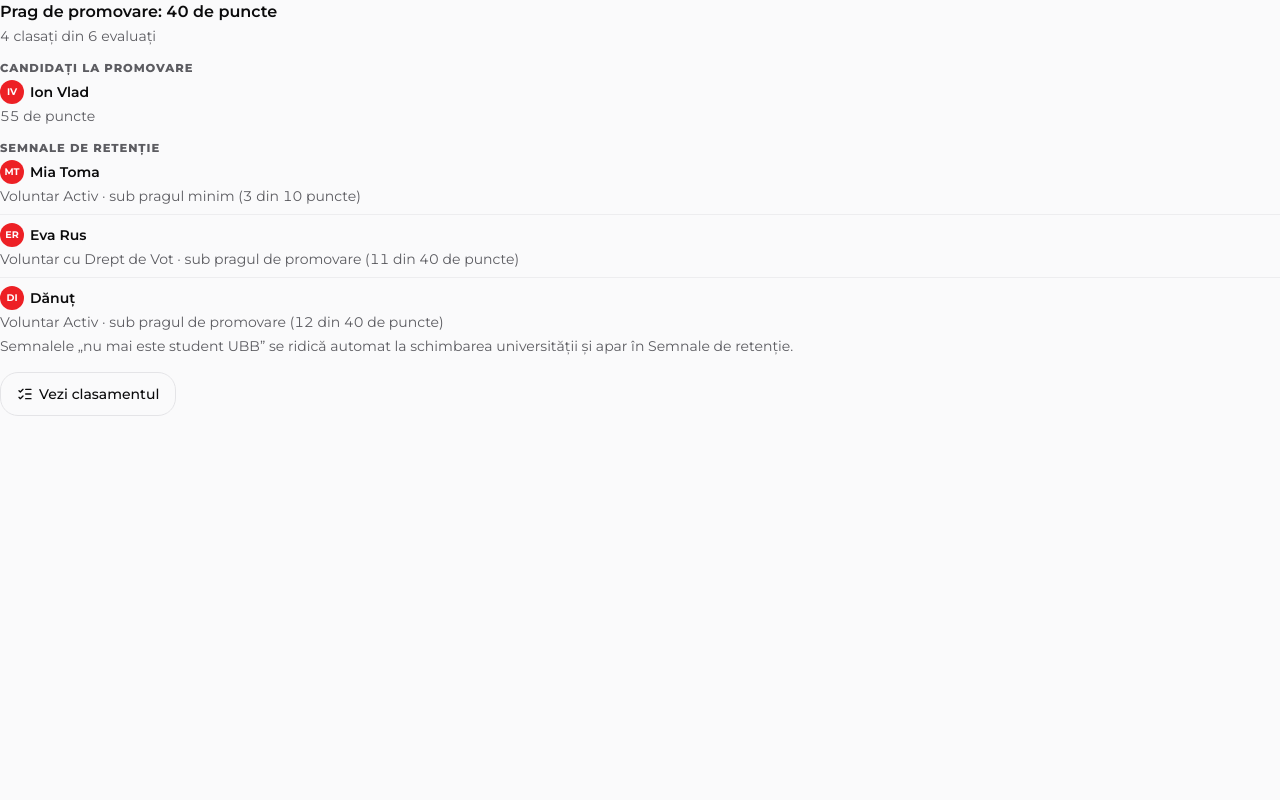
Test: opens the whole ranking in a sheet from Vezi clasamentul
Click the button "Vezi clasamentul": (88, 394) x1=0 y1=372 x2=176 y2=416
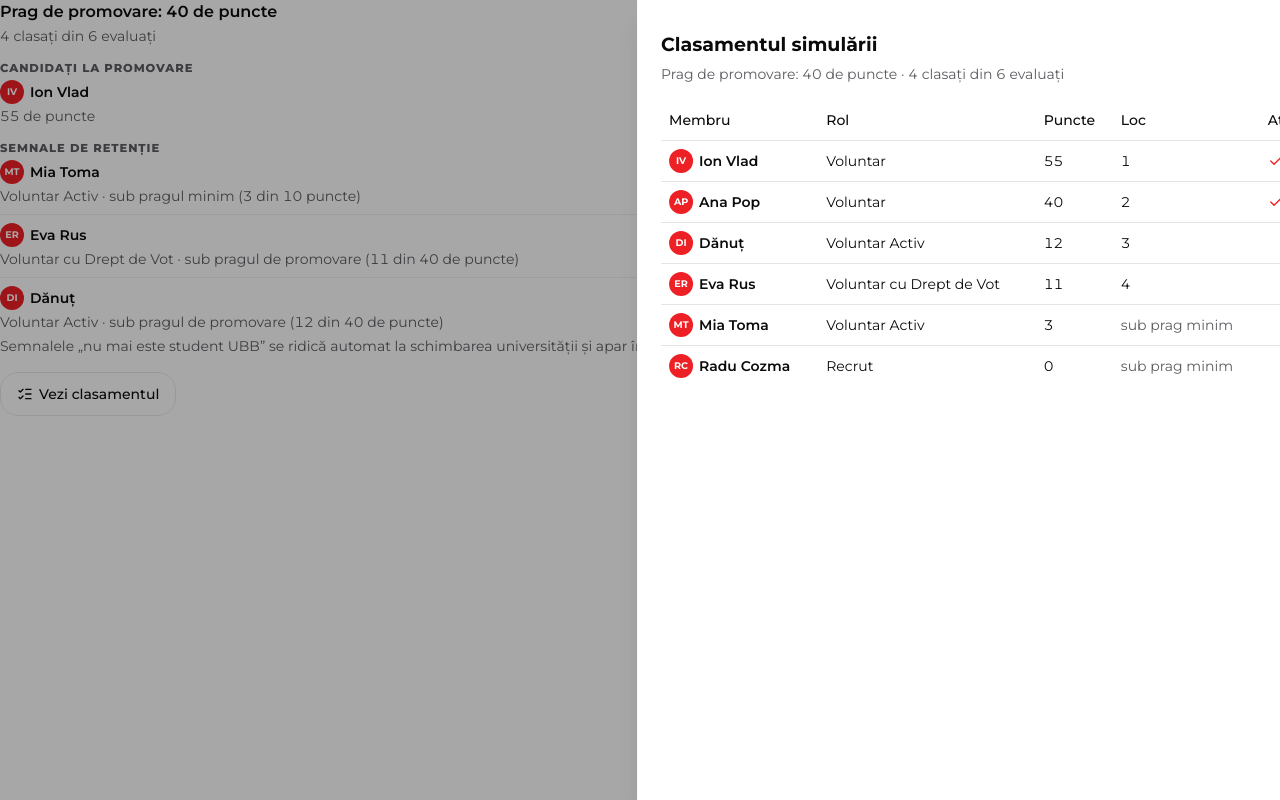
Now the heading "Clasamentul simulării" is shown, box x1=536 y1=33 x2=752 y2=56
